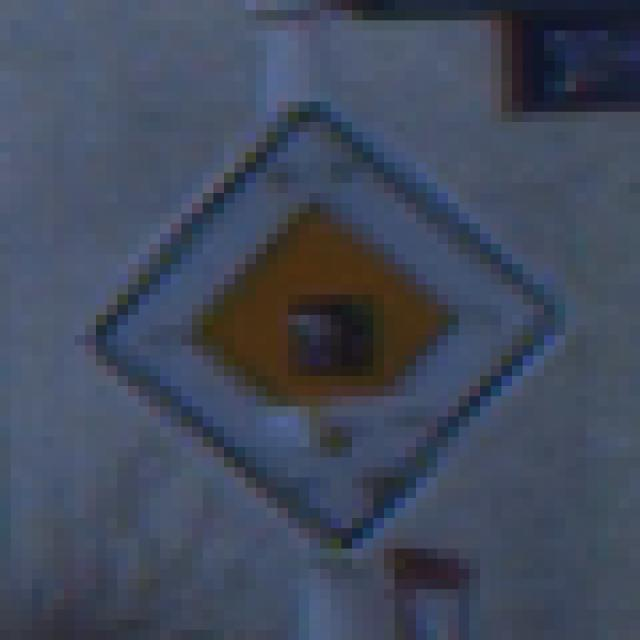Main Road: (54, 52, 588, 590)
